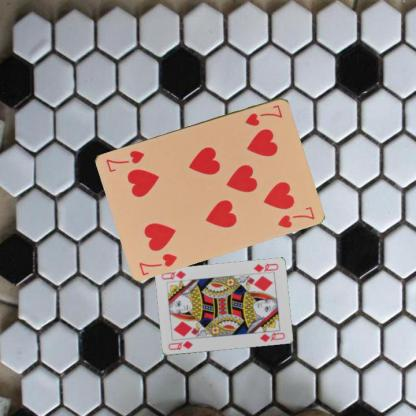7h: (136, 250, 179, 277), (242, 102, 284, 127)
Qd: (250, 261, 280, 276), (165, 339, 194, 351)
